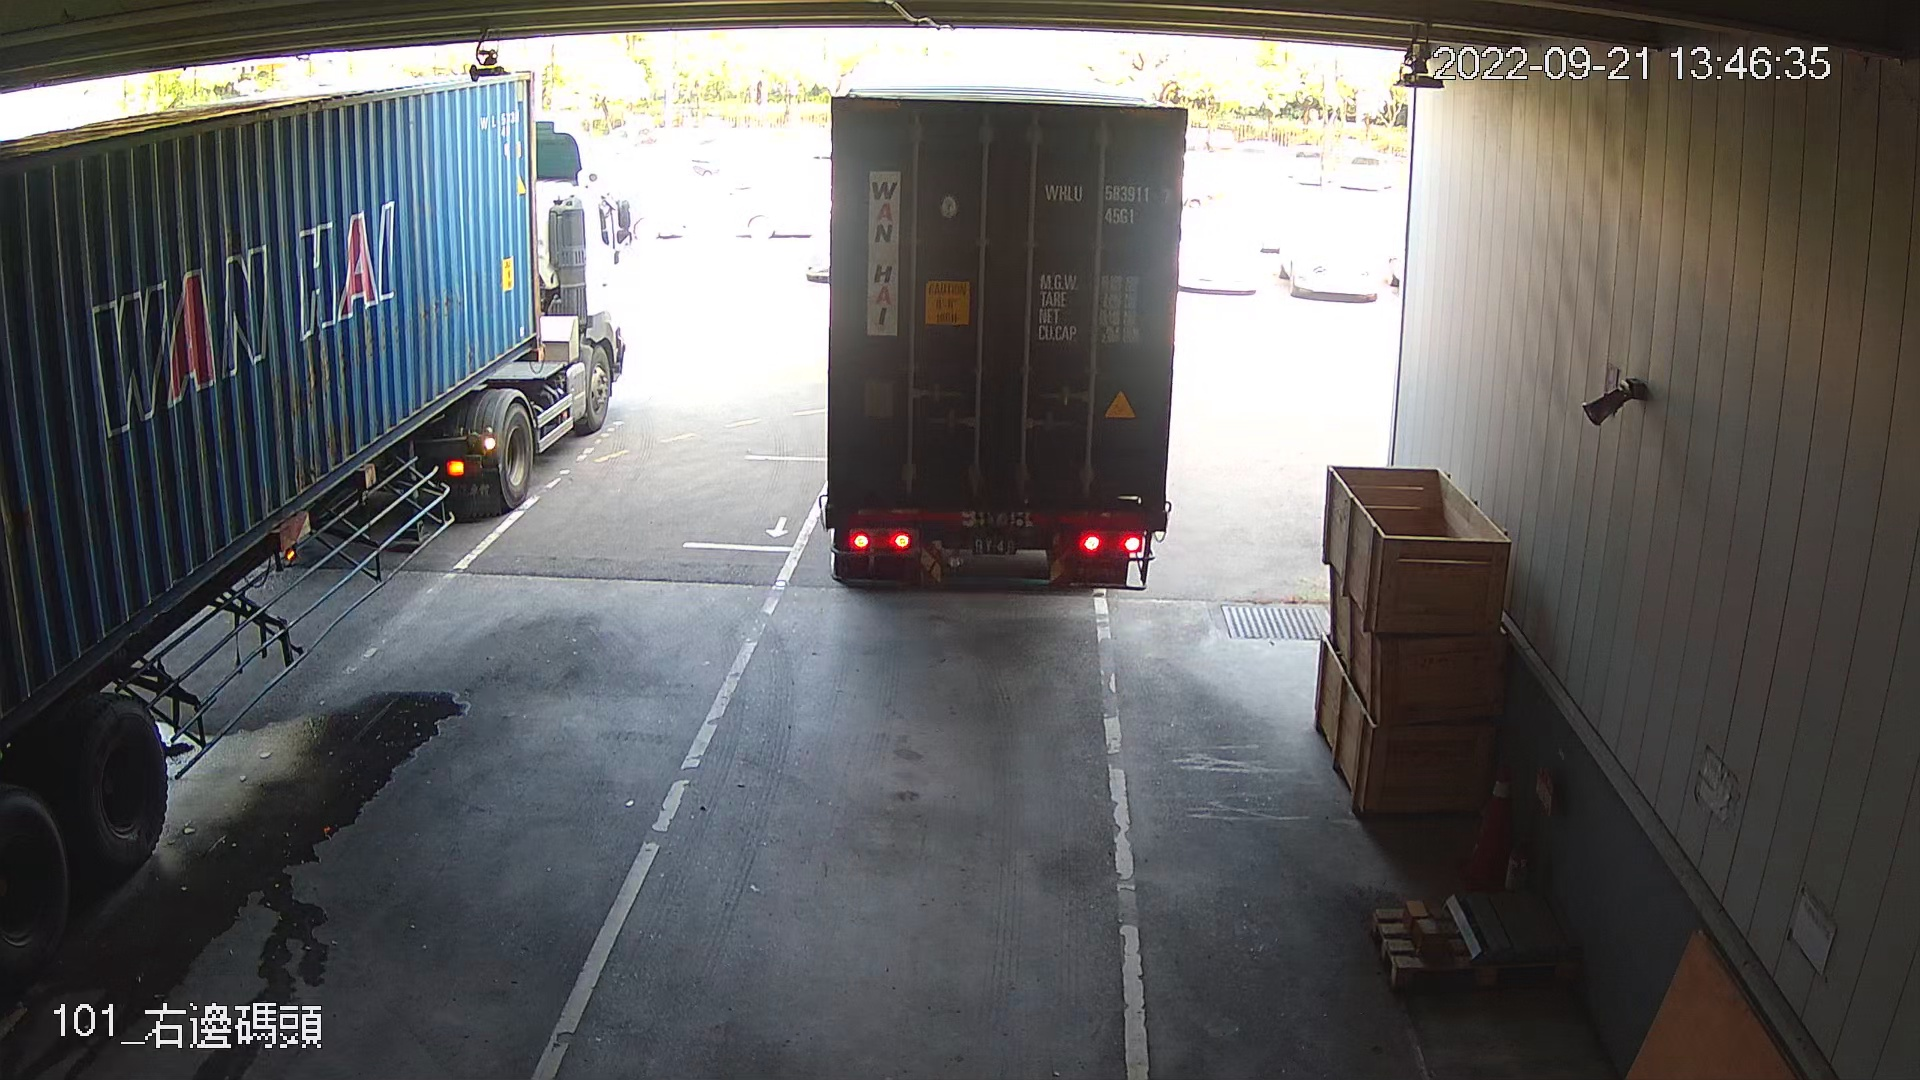container: (1036, 174, 1176, 232)
